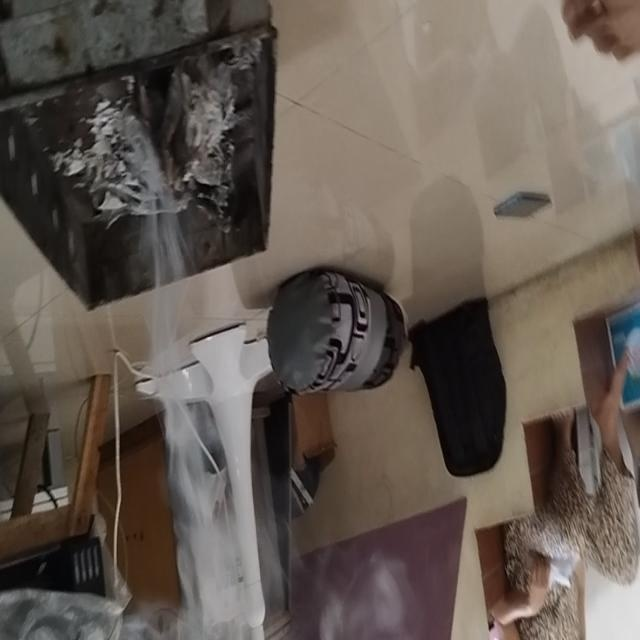smoke: (97, 107, 271, 383), (177, 377, 359, 640)
